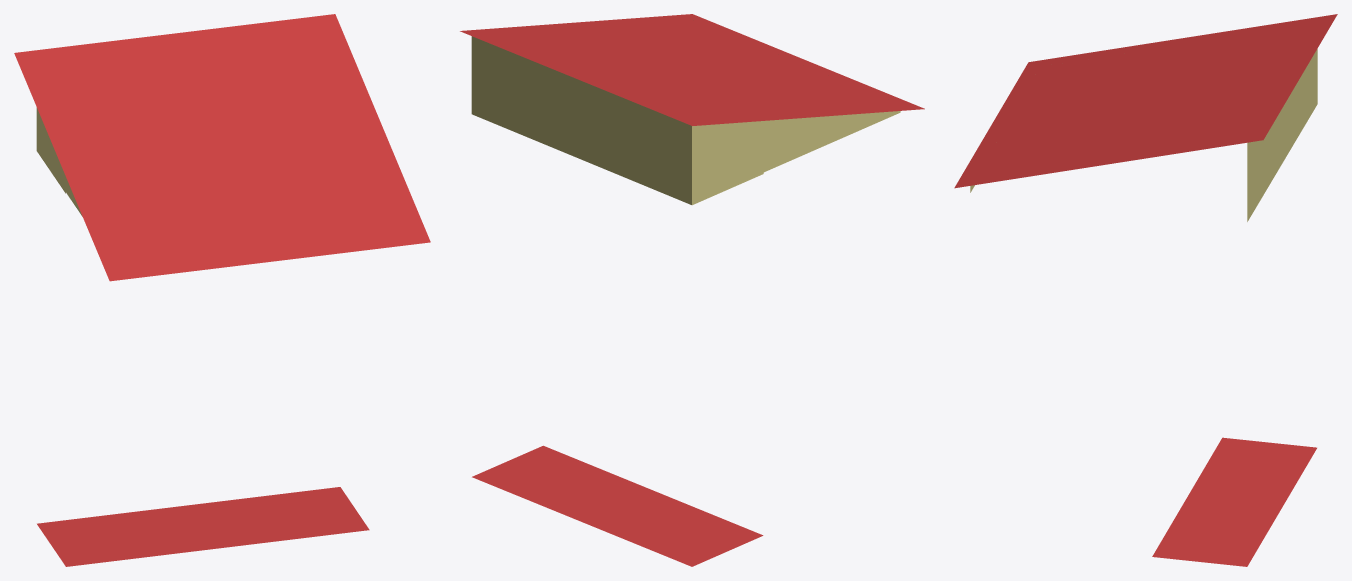
The picture shows the model from 3 angles, left to right: view 1: azimuth 30°, elevation 25°; view 2: azimuth 150°, elevation 25°; view 3: azimuth 270°, elevation 25°; orthographic projection. The views are drawn at different scales.
Size of the model in its own units: 5.6 by 5.72 by 7.04.
